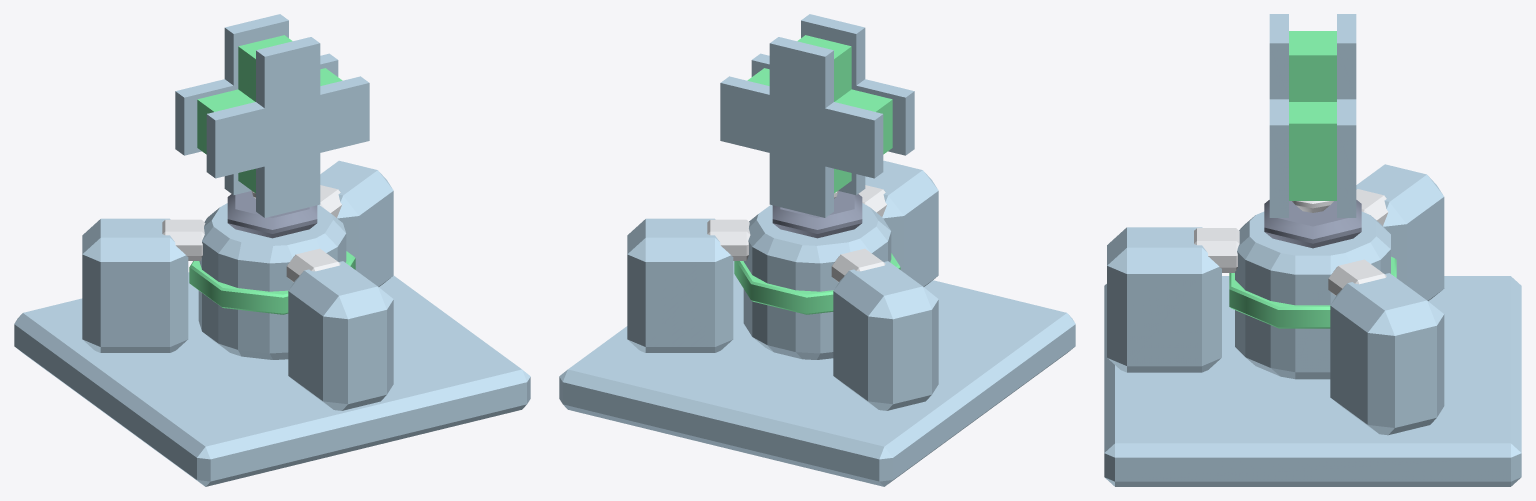
The model's file is R4X_RepairTurretDeployer_LOD1.glb.
3 views of the same model, side by side, from view 1: azimuth 30°, elevation 25°; view 2: azimuth 150°, elevation 25°; view 3: azimuth 270°, elevation 25° (orthographic). The views are drawn at different scales.
Visible parts, largest first — view 1: R4X_RepairTurretDeployer_LOD1; view 2: R4X_RepairTurretDeployer_LOD1; view 3: R4X_RepairTurretDeployer_LOD1.
Boxes of the visible parts, <box> form: R4X_RepairTurretDeployer_LOD1: <box>14,14,530,486</box>; R4X_RepairTurretDeployer_LOD1: <box>559,14,1075,486</box>; R4X_RepairTurretDeployer_LOD1: <box>1104,14,1521,486</box>.
Size of the model in its own units: 0.52 by 0.515 by 0.52.
